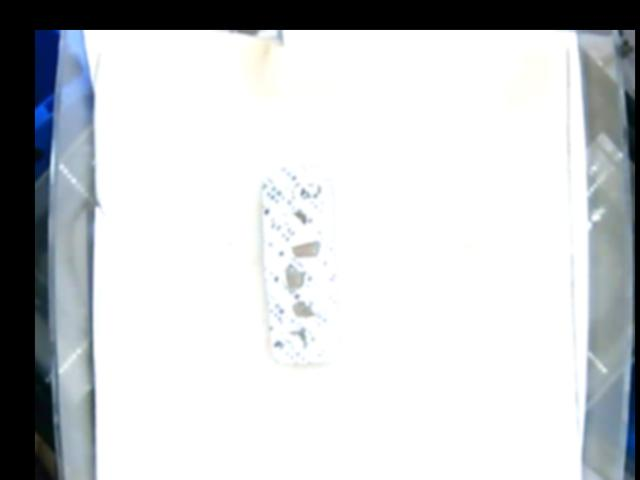Medicine: (267, 164, 335, 364)
